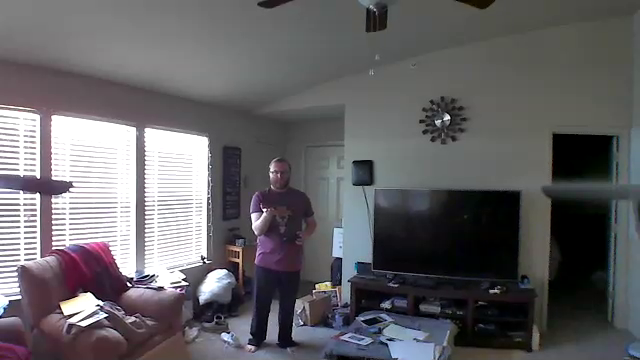land: (256, 199, 278, 218)
